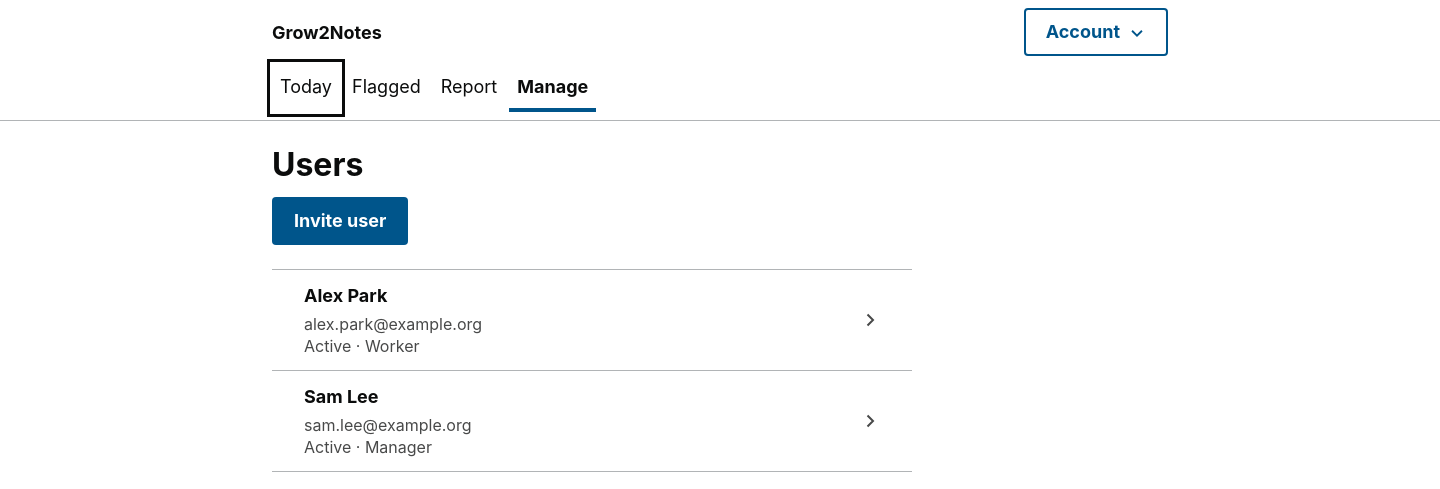
Test: a new screen › from the nav link Today focuses the new screen's <h1> and scrolls to the top
(page scrolled)
Click the link "Today".
click(306, 86)  # box [280,76,332,96]
Wait 1 ms
(page scrolled)
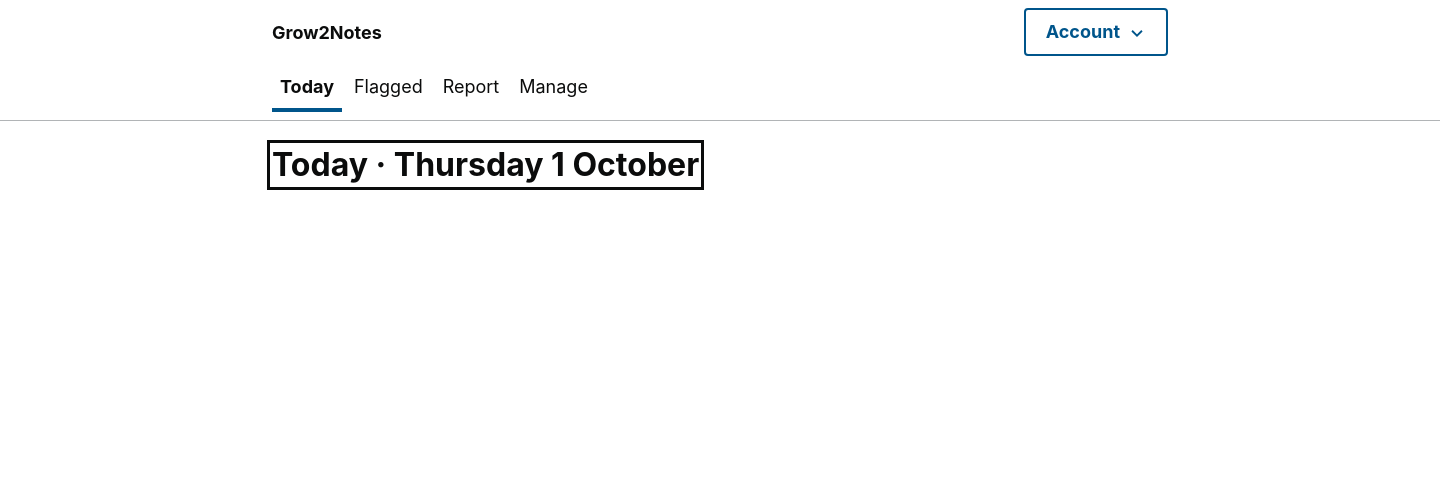
Now the heading shows "Today", box [272,145,368,184]
